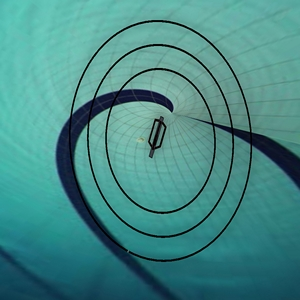circle: (57, 10, 266, 270)
submarine: (136, 114, 182, 162)
